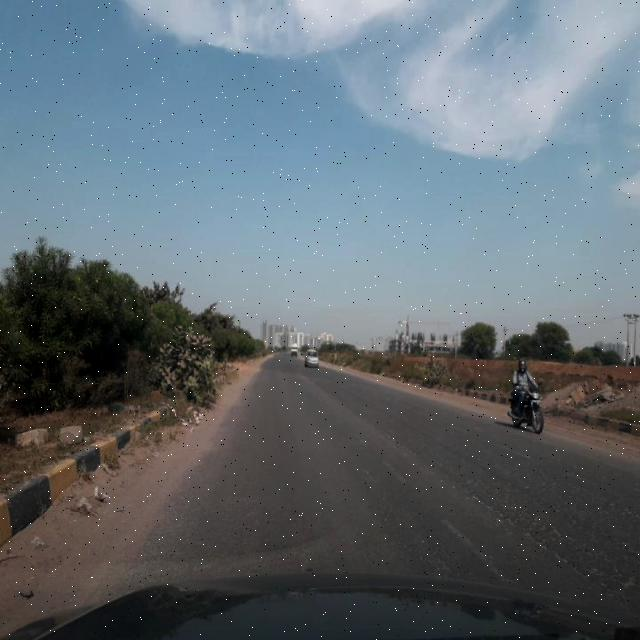D00: (461, 486, 583, 572)
D20: (452, 476, 639, 580)
